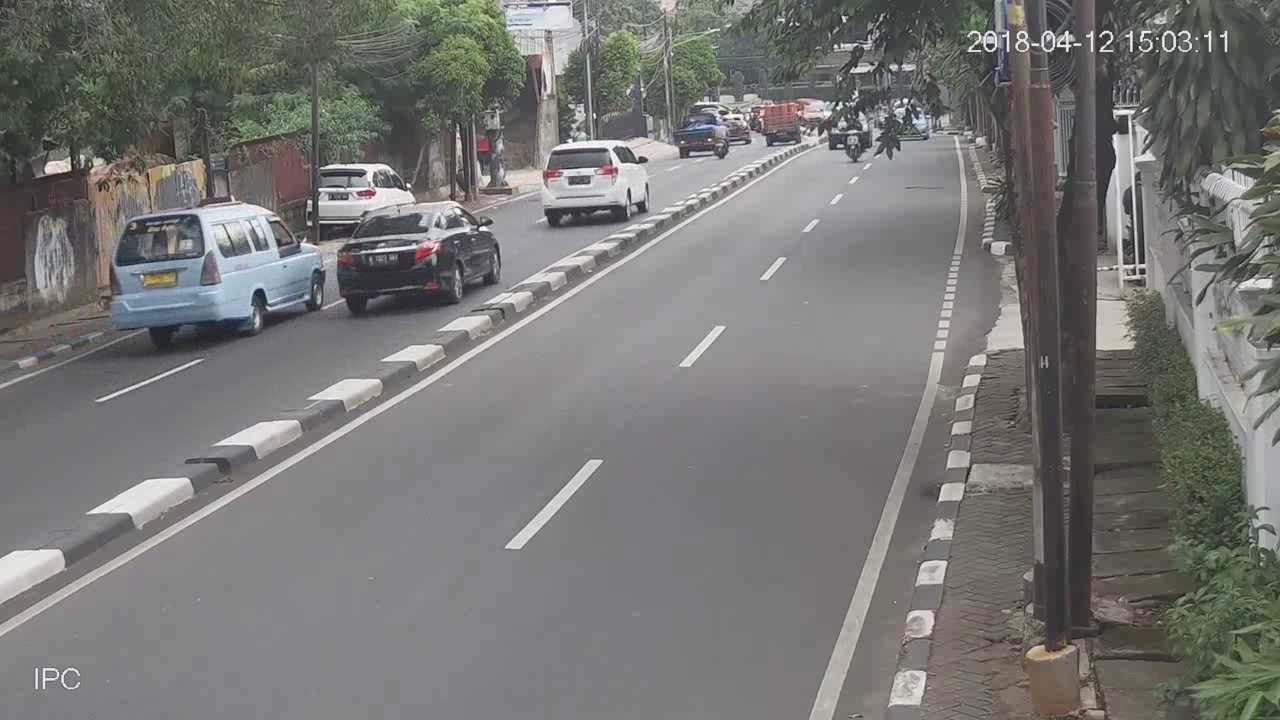car: (110, 202, 327, 345), (335, 201, 500, 316), (538, 136, 650, 224), (309, 158, 422, 203)
